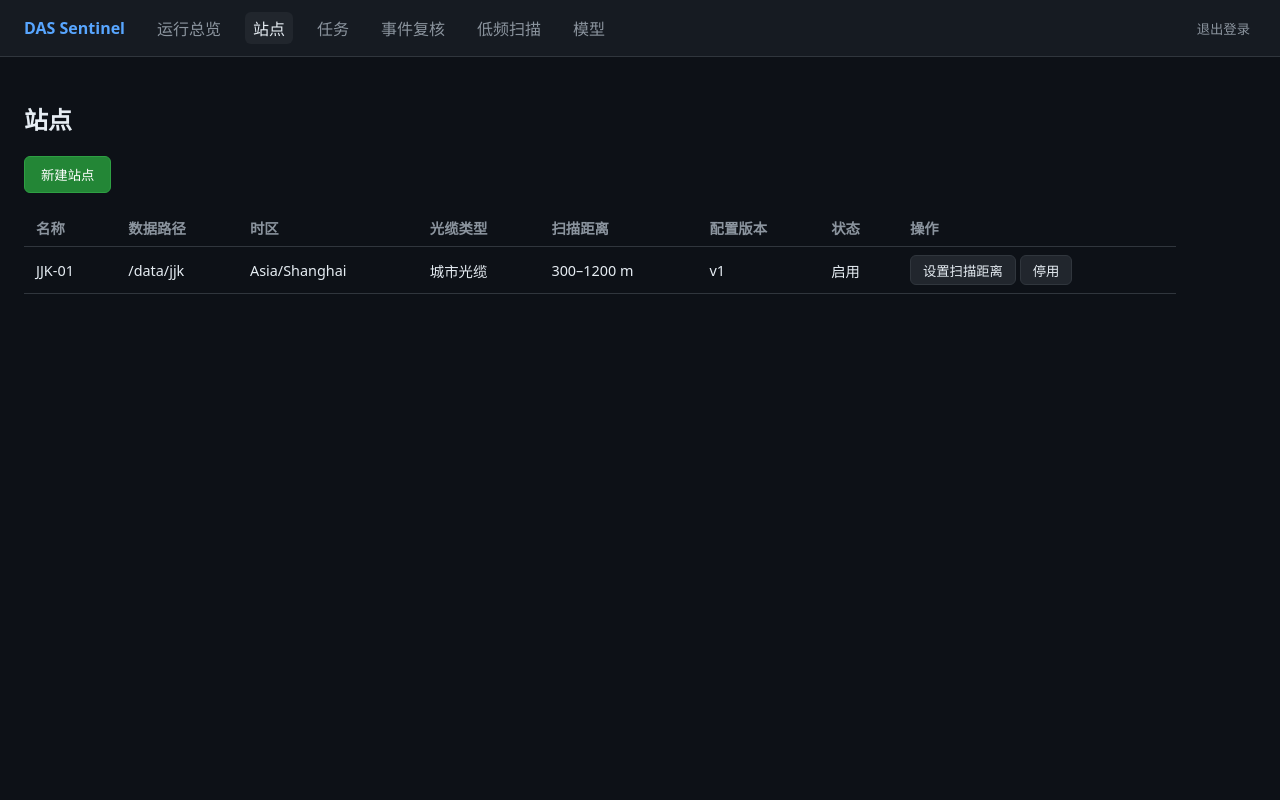
Test: saves scan distance as a new profile and clears blank boundaries with null
Step 1. Click the button "设置扫描距离" → coordinates (963, 270), box [910,255,1016,285]
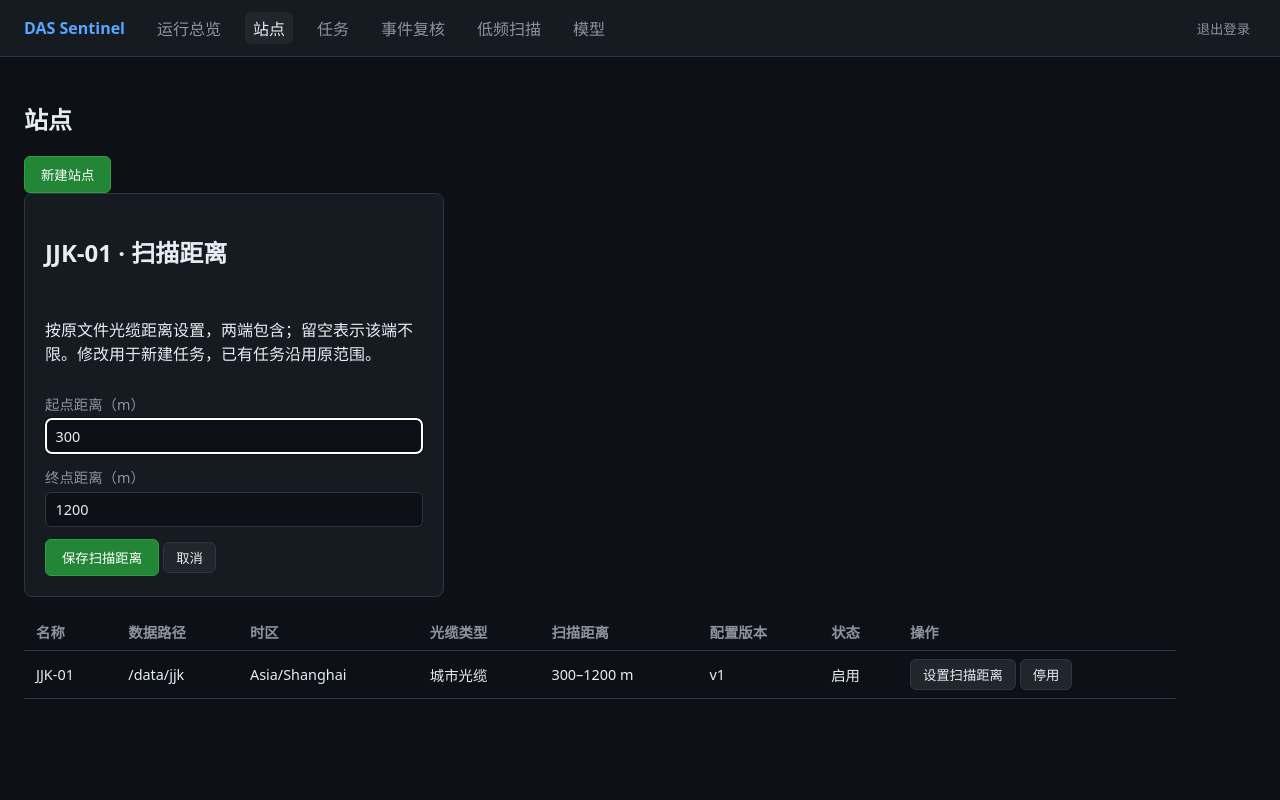
Expected: the field labelled "起点距离（m）" holds "300"
Expected: the field labelled "终点距离（m）" holds "1200", [45,492,423,527]
Step 2. Replace the text in the field labelled "起点距离（m）" with "350" → coordinates (234, 436), box [45,418,423,454]
Step 3. Replace the text in the field labelled "终点距离（m）" with "1500" → coordinates (234, 509), box [45,492,423,527]
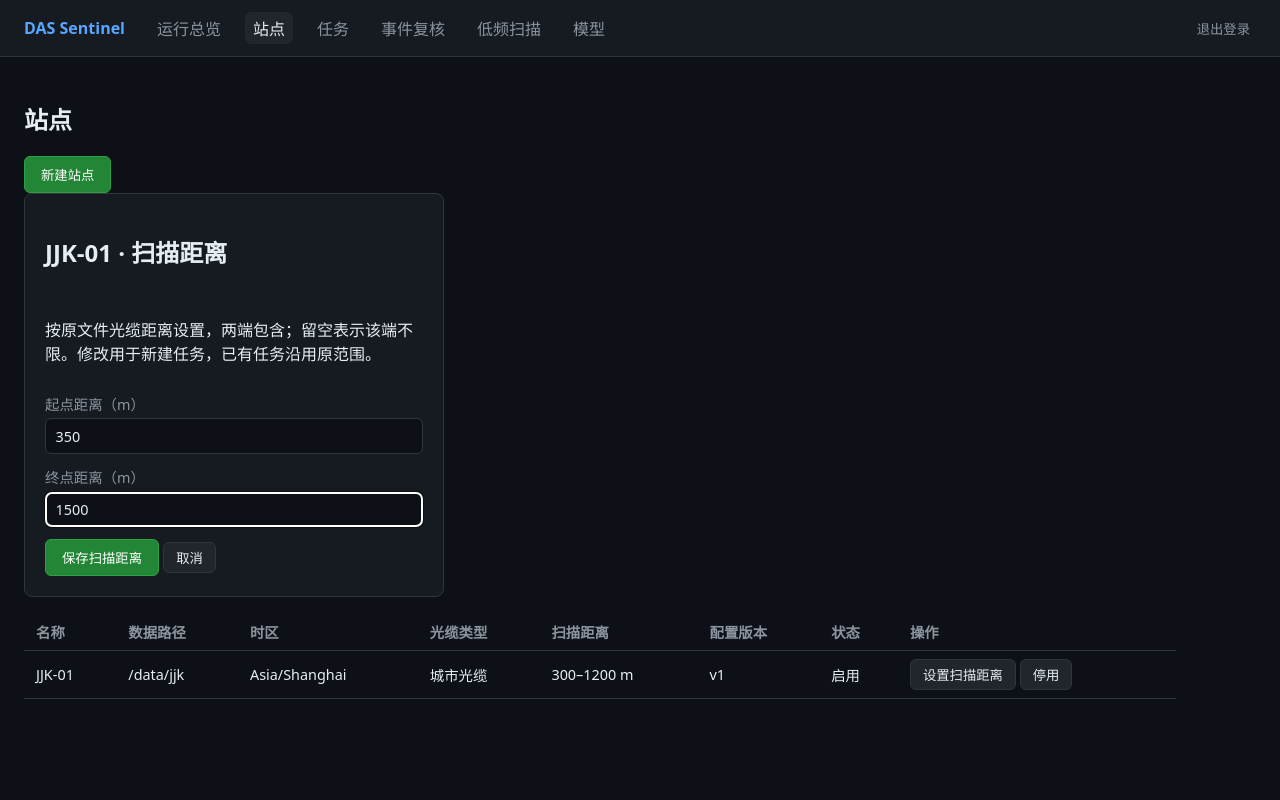
Step 4. Click the button "保存扫描距离" → coordinates (102, 558), box [45,539,159,576]
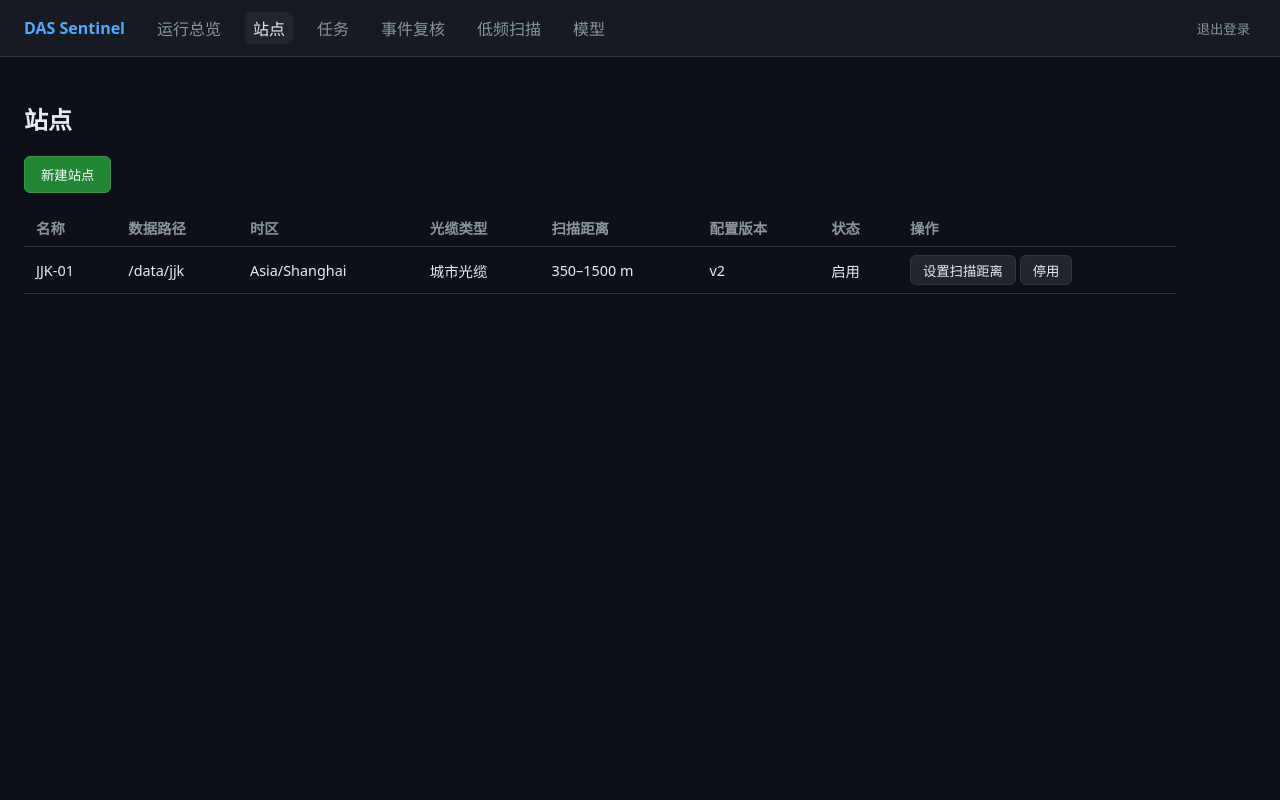
Expected: the text "350–1500 m" is shown, [539,246,698,294]
Expected: the text "v2" is shown, [698,246,819,294]
Expected: the label labelled "起点距离（m）" is gone
Step 5. Click the button "设置扫描距离" → coordinates (963, 270), box [910,255,1016,285]
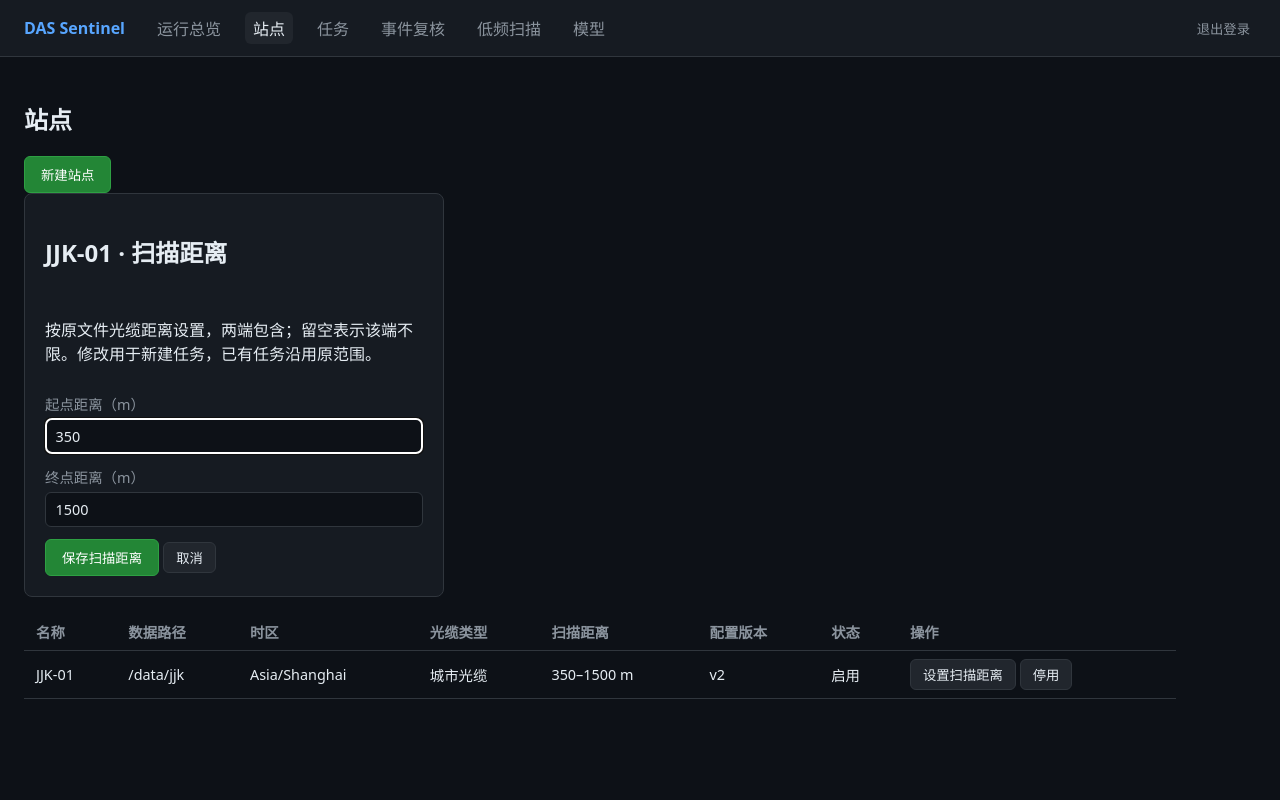
Step 6. Clear the field labelled "起点距离（m）" → coordinates (234, 436), box [45,418,423,454]
Step 7. Clear the field labelled "终点距离（m）" → coordinates (234, 509), box [45,492,423,527]
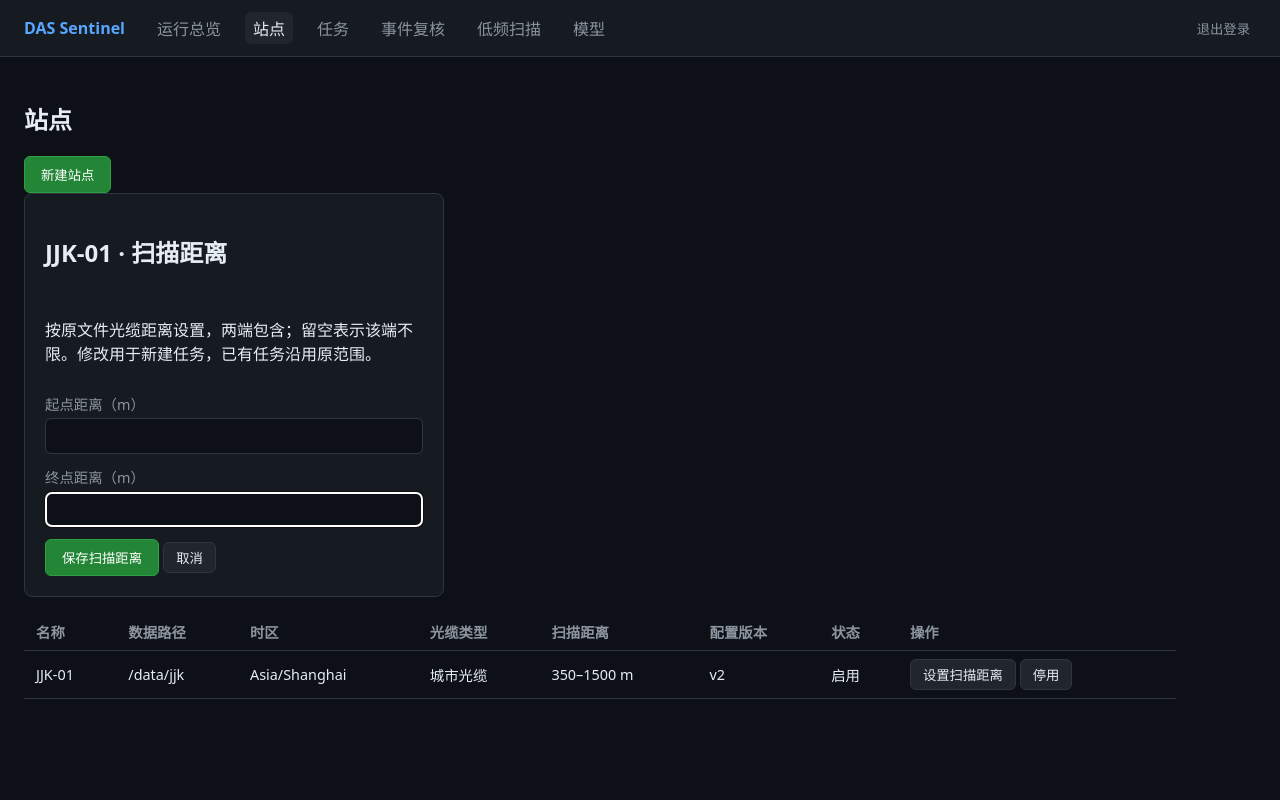
Step 8. Click the button "保存扫描距离" → coordinates (102, 558), box [45,539,159,576]
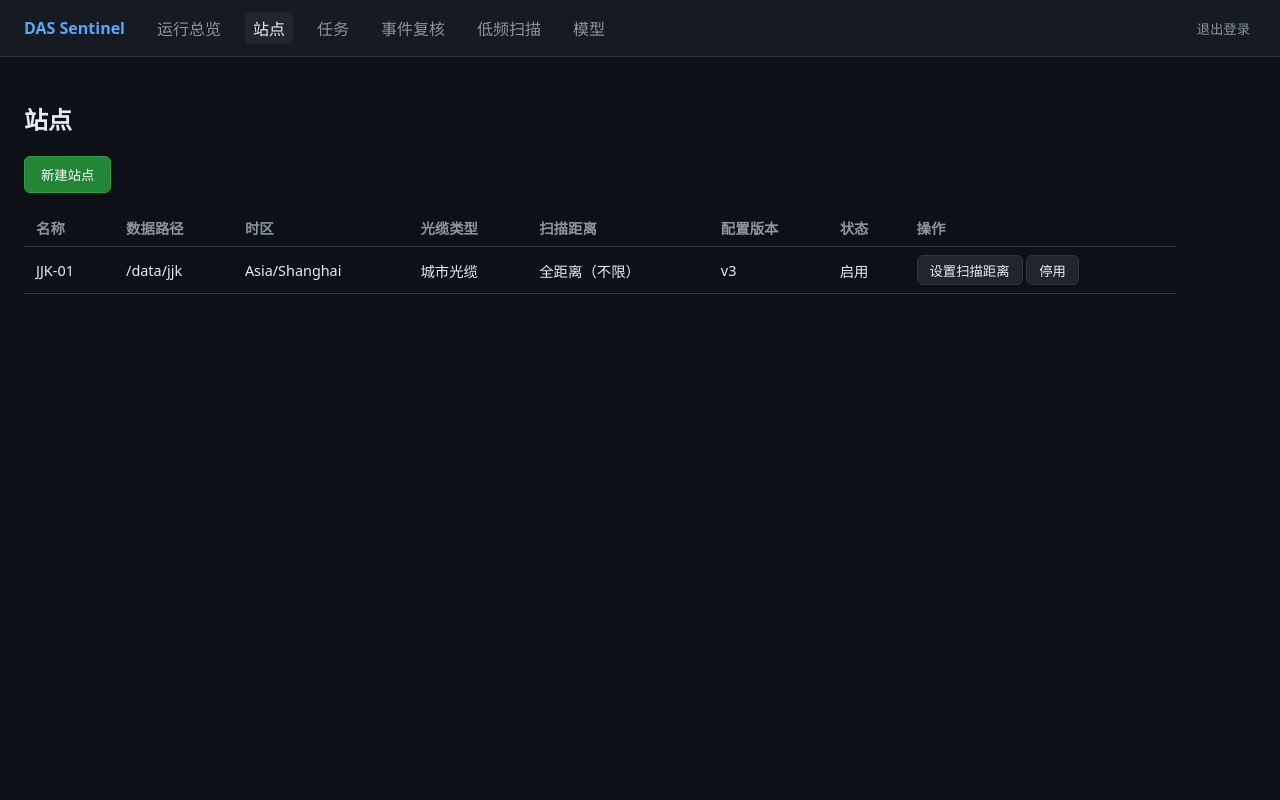
Expected: the text "全距离（不限）" is shown, [527,246,709,294]
Expected: the text "v3" is shown, [709,246,828,294]
